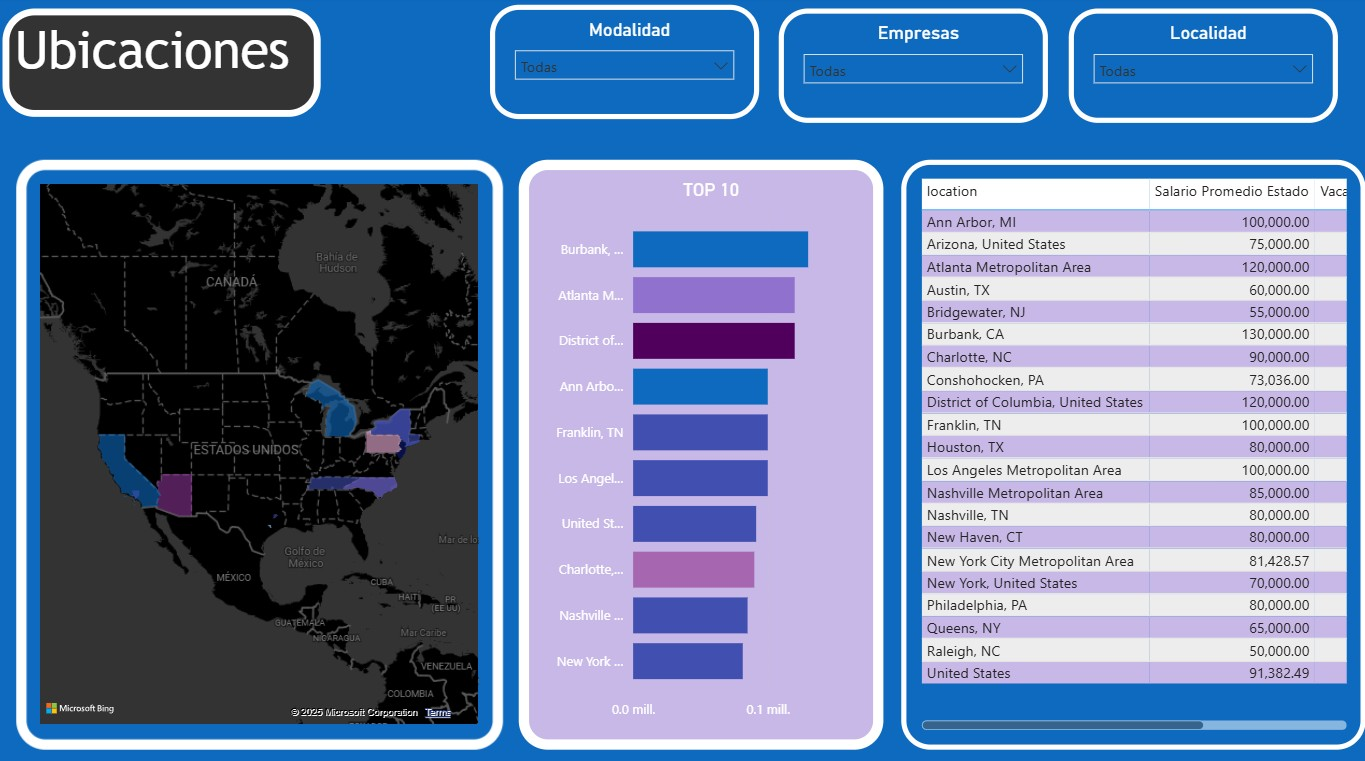

Layout of this report page (visuals, bound fields, positions):
{"tool":"powerbi","page":{"name":"UB","canvas":[1280,720],"ordinal":1},"visuals":[{"type":"textbox","box":[11.6,11.6,296.2,101.1],"z":0},{"type":"filledMap","fields":{"Category":["jobs.location"]},"box":[23.9,152.1,452.6,548.4],"z":2000},{"type":"slicer","title":"Empresas","fields":{"Values":["jobs.company"]},"box":[734,12,250.3,106.6],"z":3000},{"type":"slicer","title":"Localidad","fields":{"Values":["jobs.location"]},"box":[1003.4,12,250.3,106.6],"z":4000},{"type":"slicer","title":"Modalidad","fields":{"Values":["jobs.onsite_remote"]},"box":[464.6,8.4,250.3,106.6],"z":5000},{"type":"barChart","title":"TOP 10 ","fields":{"Category":["jobs.location"],"Y":["jobs.Salario Promedio Estado"]},"box":[492.1,152.1,338.9,548.4],"z":6000},{"type":"tableEx","fields":{"Values":["jobs.location","jobs.Salario Promedio Estado","jobs.Vacantes por Estado","jobs.Total Empresas"]},"box":[847.7,152.1,432.3,548.4],"z":7000}]}

Visuals, with their boxes in screenshot pixels (x1, y1, x2, y2), scaled from the page's 1280x720 canvas onto the 1365x761 screenshot:
textbox: {"left": 12, "top": 12, "right": 328, "bottom": 119}
filledMap - jobs.location: {"left": 25, "top": 161, "right": 508, "bottom": 740}
"Empresas" slicer: {"left": 783, "top": 13, "right": 1050, "bottom": 125}
"Localidad" slicer: {"left": 1070, "top": 13, "right": 1337, "bottom": 125}
"Modalidad" slicer: {"left": 495, "top": 9, "right": 762, "bottom": 122}
"TOP 10 " barChart: {"left": 525, "top": 161, "right": 886, "bottom": 740}
tableEx - jobs.location x jobs.Salario Promedio Estado: {"left": 904, "top": 161, "right": 1364, "bottom": 740}
